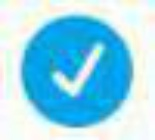CheckBox: (1, 1, 154, 139)
